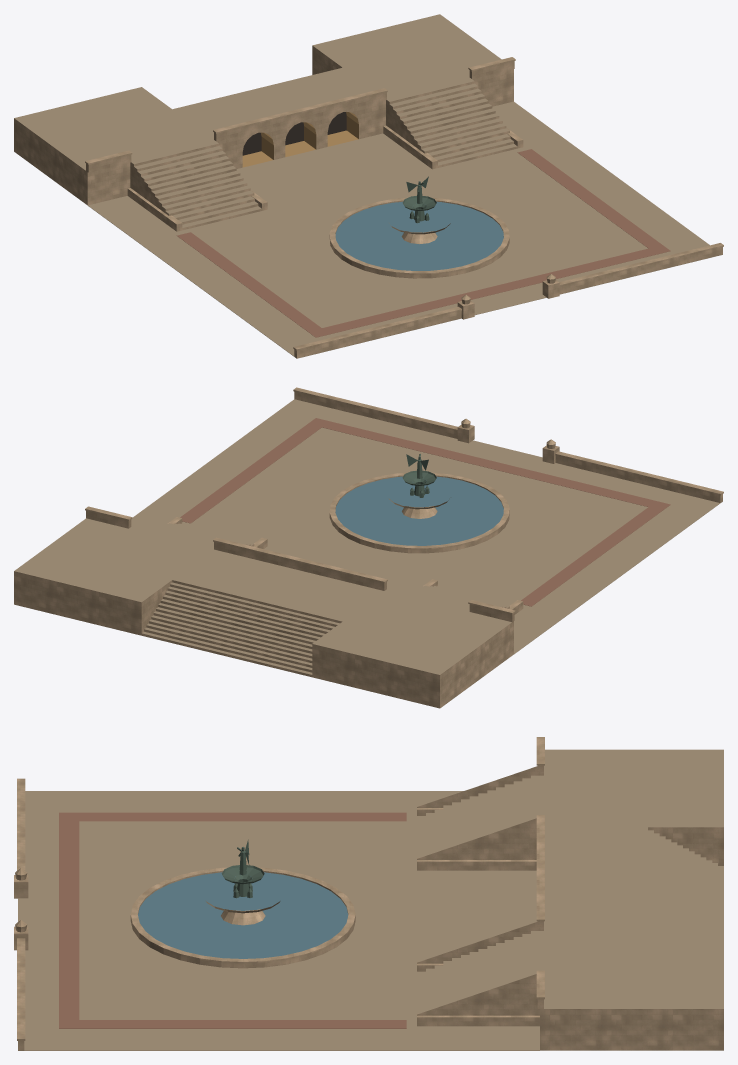
The model's file is bethesda_terrace.glb.
The picture shows the model from 3 angles, top to bottom: view 1: azimuth 30°, elevation 25°; view 2: azimuth 150°, elevation 25°; view 3: azimuth 270°, elevation 25°; orthographic projection. The views are drawn at different scales.
Visible parts, largest first — view 1: bethesda_terrace; view 2: bethesda_terrace; view 3: bethesda_terrace.
Boxes of the visible parts, left/top/right/bottom form: bethesda_terrace: left=14, top=14, right=723, bottom=358; bethesda_terrace: left=14, top=387, right=723, bottom=708; bethesda_terrace: left=14, top=737, right=723, bottom=1050.
Size of the model in its own units: 60.2 by 8.12 by 69.4.
2 materials, 2 textured.
